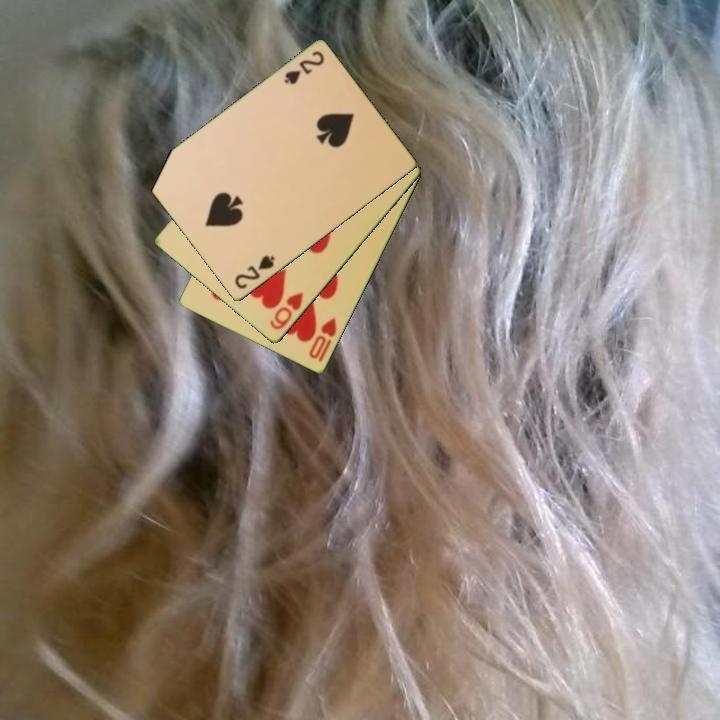10h: (305, 314, 340, 362)
2s: (231, 252, 278, 293), (281, 48, 327, 88)
6h: (266, 289, 307, 333)
